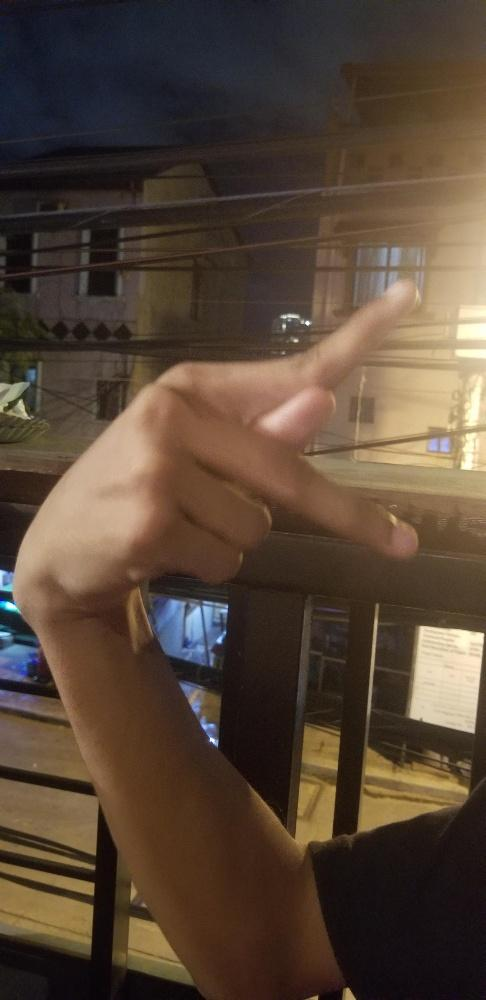k: (12, 274, 418, 599)
